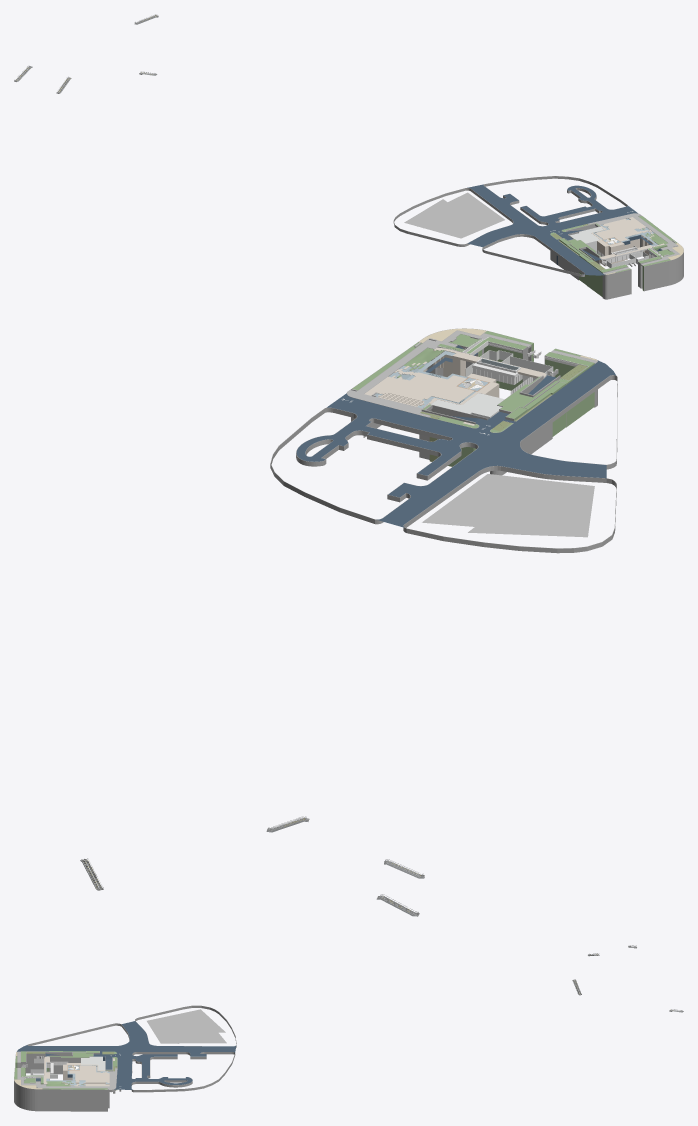
File: lujiazui-24.glb
3 views of the same model, one above another, from view 1: azimuth 30°, elevation 25°; view 2: azimuth 150°, elevation 25°; view 3: azimuth 270°, elevation 25° (orthographic). The views are drawn at different scales.
Visible parts, largest first — view 1: source_3301_Mat3d66-1303573-2113-6182_part0, source_3248_Mat3d66-1303573-2095-4192_part0, source_3249_Mat3d66-1303573-2114-8479_part0, source_3262_Mat3d66-1303573-2114-8479_part0, source_3246_Mat3d66-1303573-2092-907_part0, source_3260_Mat3d66-1303573-2115-1078_part0; view 2: source_3301_Mat3d66-1303573-2113-6182_part0, source_3248_Mat3d66-1303573-2095-4192_part0, source_3249_Mat3d66-1303573-2114-8479_part0, source_3246_Mat3d66-1303573-2092-907_part0, source_3260_Mat3d66-1303573-2115-1078_part0, source_3303_Mat3d66-1303573-2089-910_part0, source_3321_Mat3d66-1303573-2092-907_part0, source_3262_Mat3d66-1303573-2114-8479_part0; view 3: source_3301_Mat3d66-1303573-2113-6182_part0, source_3262_Mat3d66-1303573-2114-8479_part0, source_3248_Mat3d66-1303573-2095-4192_part0, source_3249_Mat3d66-1303573-2114-8479_part0, source_3246_Mat3d66-1303573-2092-907_part0, source_3260_Mat3d66-1303573-2115-1078_part0, source_3283_Mat3d66-1303573-2114-8479_part0, source_3321_Mat3d66-1303573-2092-907_part0, source_3282_Mat3d66-1303573-2114-8479_part0.
Part boxes in pixels (x1=…): source_3301_Mat3d66-1303573-2113-6182_part0: x1=467, y1=184, x2=637, y2=275; source_3248_Mat3d66-1303573-2095-4192_part0: x1=404, y1=192, x2=504, y2=238; source_3249_Mat3d66-1303573-2114-8479_part0: x1=393, y1=176, x2=640, y2=276; source_3262_Mat3d66-1303573-2114-8479_part0: x1=550, y1=216, x2=683, y2=299; source_3246_Mat3d66-1303573-2092-907_part0: x1=591, y1=222, x2=639, y2=266; source_3260_Mat3d66-1303573-2115-1078_part0: x1=588, y1=213, x2=679, y2=266; source_3301_Mat3d66-1303573-2113-6182_part0: x1=296, y1=360, x2=616, y2=527; source_3248_Mat3d66-1303573-2095-4192_part0: x1=422, y1=474, x2=594, y2=537; source_3249_Mat3d66-1303573-2114-8479_part0: x1=270, y1=375, x2=617, y2=553; source_3246_Mat3d66-1303573-2092-907_part0: x1=391, y1=373, x2=499, y2=434; source_3260_Mat3d66-1303573-2115-1078_part0: x1=347, y1=330, x2=531, y2=417; source_3303_Mat3d66-1303573-2089-910_part0: x1=430, y1=393, x2=504, y2=419; source_3321_Mat3d66-1303573-2092-907_part0: x1=364, y1=361, x2=426, y2=406; source_3262_Mat3d66-1303573-2114-8479_part0: x1=351, y1=328, x2=597, y2=475; source_3301_Mat3d66-1303573-2113-6182_part0: x1=17, y1=1021, x2=236, y2=1089; source_3262_Mat3d66-1303573-2114-8479_part0: x1=14, y1=1052, x2=116, y2=1111; source_3248_Mat3d66-1303573-2095-4192_part0: x1=147, y1=1009, x2=226, y2=1043; source_3249_Mat3d66-1303573-2114-8479_part0: x1=27, y1=1005, x2=236, y2=1092; source_3246_Mat3d66-1303573-2092-907_part0: x1=63, y1=1063, x2=104, y2=1080; source_3260_Mat3d66-1303573-2115-1078_part0: x1=17, y1=1068, x2=117, y2=1089; source_3283_Mat3d66-1303573-2114-8479_part0: x1=26, y1=1051, x2=45, y2=1073; source_3321_Mat3d66-1303573-2092-907_part0: x1=62, y1=1072, x2=109, y2=1086; source_3282_Mat3d66-1303573-2114-8479_part0: x1=45, y1=1052, x2=80, y2=1062.
Size of the model in its own units: 352 by 34.18 by 692.
